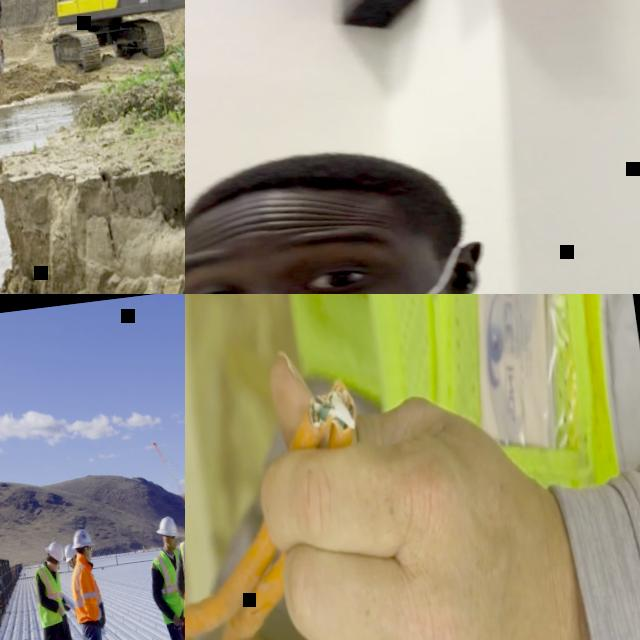Hardhat: (68, 526, 94, 551), (154, 514, 178, 540), (43, 538, 66, 564), (61, 540, 77, 564)
NO-Hardhat: (185, 135, 448, 265)
NO-Mask: (165, 540, 177, 552), (84, 550, 91, 560), (49, 564, 57, 572), (67, 560, 74, 569)
Person: (185, 294, 640, 640), (185, 97, 640, 294), (64, 526, 119, 640), (28, 537, 87, 640), (140, 513, 185, 640), (61, 542, 93, 640)
Safety Vest: (283, 294, 640, 520), (67, 552, 106, 633), (149, 546, 185, 623), (32, 564, 66, 627), (172, 534, 185, 588)
vehicle: (0, 0, 185, 92)
